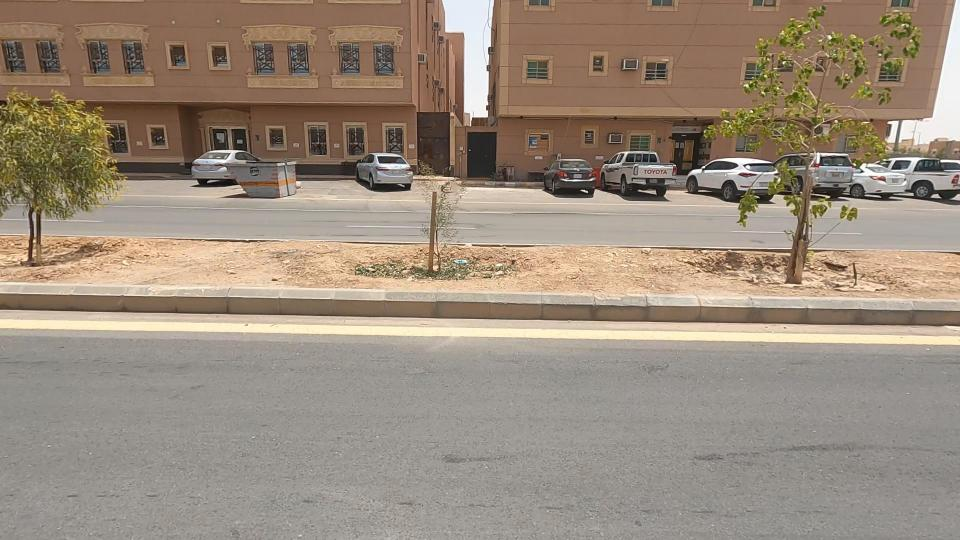CLUTTER_SIDEWALK: (46, 189, 320, 332), (457, 213, 763, 317)
GARBAGE: (426, 233, 501, 288)
